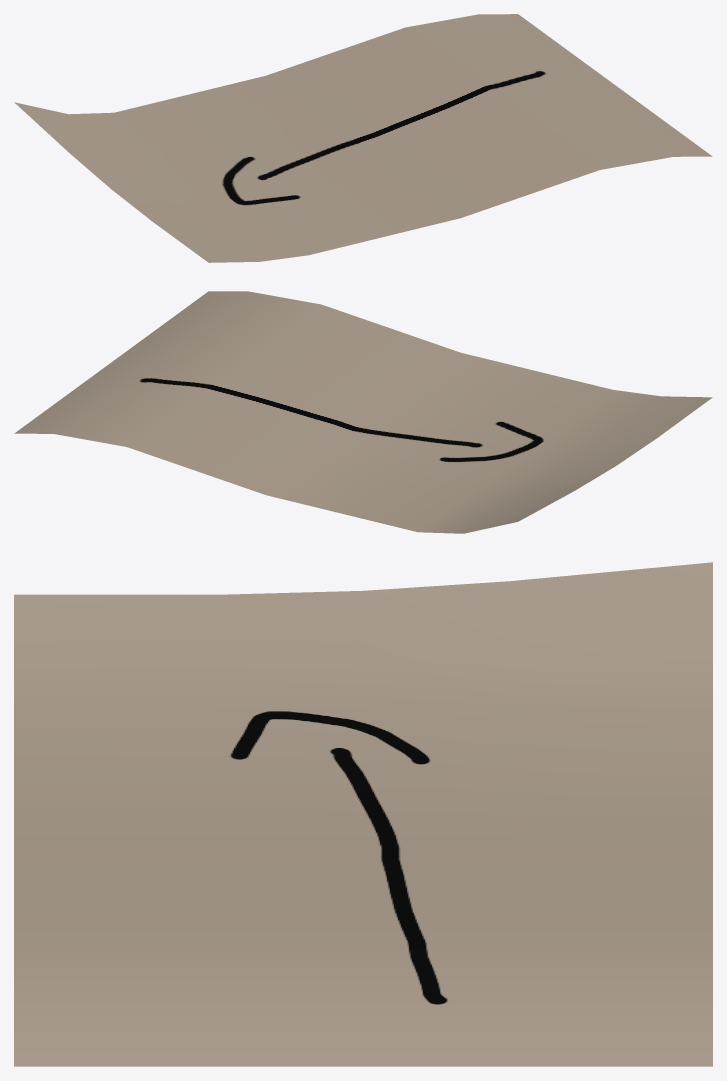
File: SM_DemoEndNote.fbx
3 renders of one model, top to bottom at view 1: azimuth 30°, elevation 25°; view 2: azimuth 150°, elevation 25°; view 3: azimuth 270°, elevation 25°, orthographic. The views are drawn at different scales.
Parts seen in each view (by area): view 1: DemoEndNote; view 2: DemoEndNote; view 3: DemoEndNote.
Boxes of the visible parts, <box> form: DemoEndNote: <box>14,14,712,262</box>; DemoEndNote: <box>14,291,712,533</box>; DemoEndNote: <box>14,562,712,1066</box>.
Bounding box in the file's own units: 29.3 × 1.94 × 19.6.
